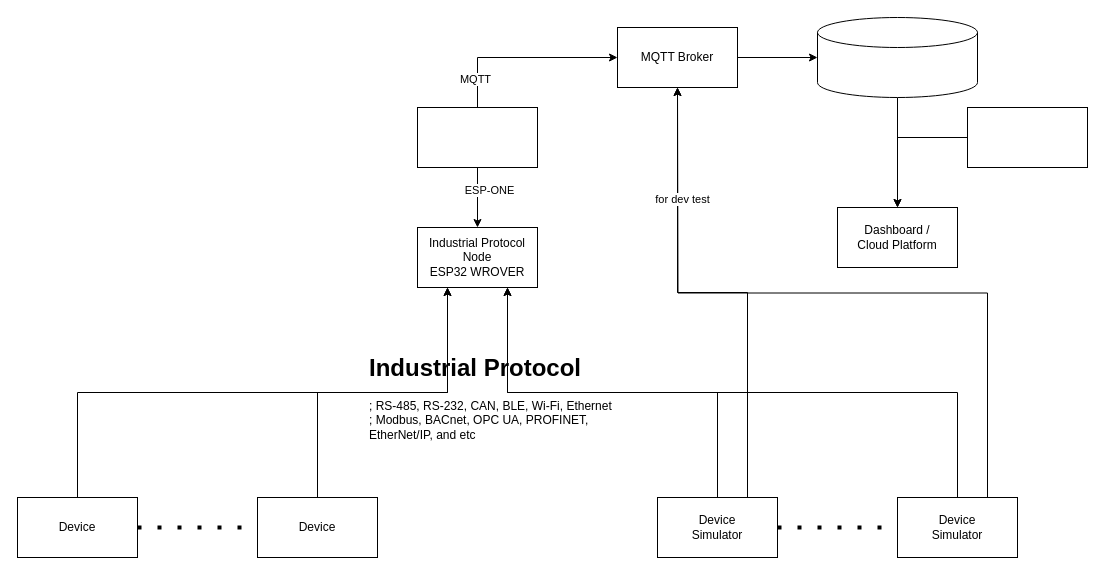
Some shapes in this 1105 by 575 pixel diagram are drawn without their labels. The shapes that lost their labels are listed below. From the top down, each one's box as (x1, y1, x2, y2) in pixels, then its label:
(816, 16, 978, 98): Database (TimescaleDB / Influx)
(416, 106, 538, 168): Gateway ESP32 WROVER
(966, 106, 1088, 168): Topic to Dashboard Mapper (JSON Config)
